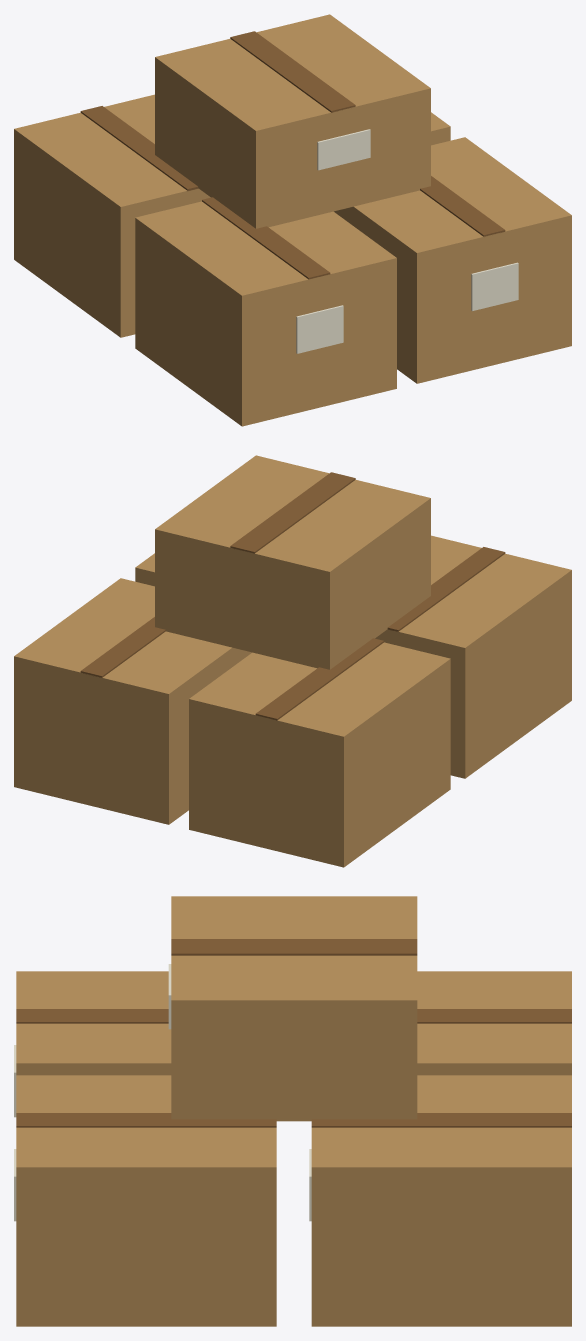
Rendered from PickupCargoBoxes.obj.
3 renders of one model, top to bottom at view 1: azimuth 30°, elevation 25°; view 2: azimuth 150°, elevation 25°; view 3: azimuth 270°, elevation 25°, orthographic. The views are drawn at different scales.
Visible parts, largest first — view 1: PickupCargoBoxes; view 2: PickupCargoBoxes; view 3: PickupCargoBoxes.
Part boxes in pixels (bbox=[...]): PickupCargoBoxes: bbox=[14, 14, 571, 426]; PickupCargoBoxes: bbox=[14, 455, 571, 867]; PickupCargoBoxes: bbox=[14, 896, 571, 1326].
Bounding box in the file's own units: 1.32 × 0.886 × 1.59.
